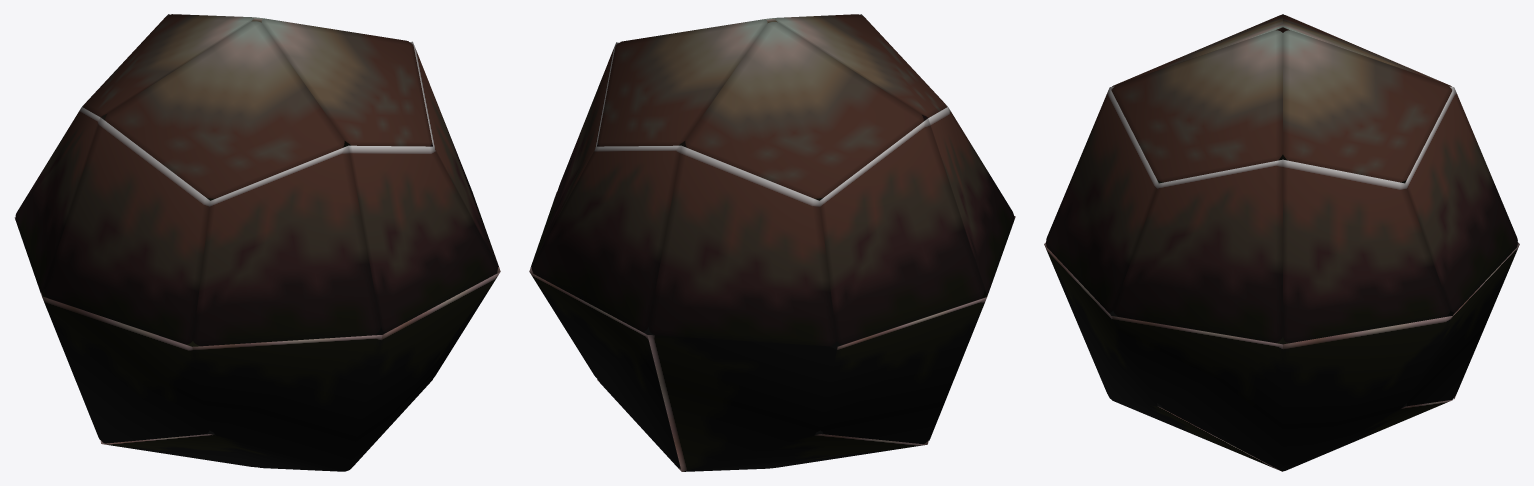
3 renders of one model, left to right at view 1: azimuth 30°, elevation 25°; view 2: azimuth 150°, elevation 25°; view 3: azimuth 270°, elevation 25°, orthographic. The views are drawn at different scales.
Parts seen in each view (by area): view 1: T1L7M005_8; view 2: T1L7M005_8; view 3: T1L7M005_8.
Part boxes in pixels (box(x1,y1,x2,y2)): T1L7M005_8: box(14, 14, 500, 471); T1L7M005_8: box(529, 14, 1015, 471); T1L7M005_8: box(1044, 14, 1519, 471).
Bounding box in the file's own units: 0.2549 × 0.2549 × 0.2549.
